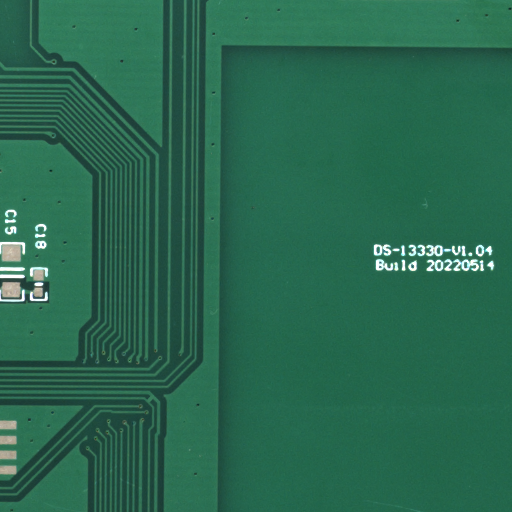Short: (150, 399, 158, 408)
